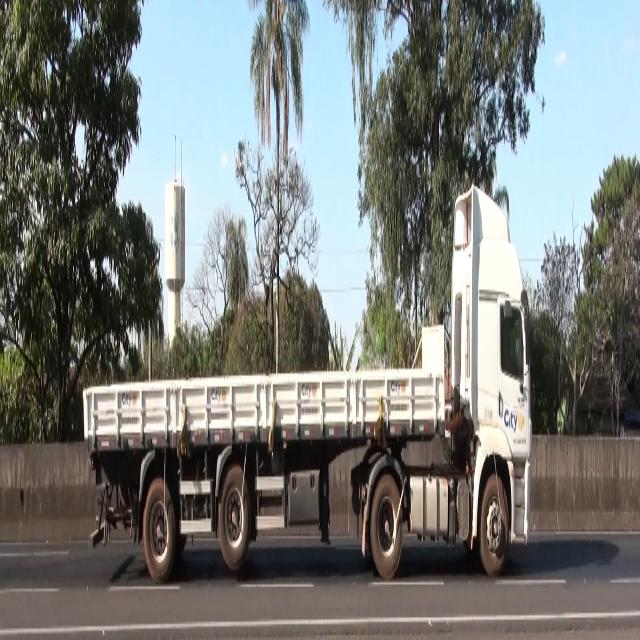-axle: (476, 465, 512, 580), (368, 470, 404, 583), (217, 465, 251, 569), (142, 481, 174, 575)
